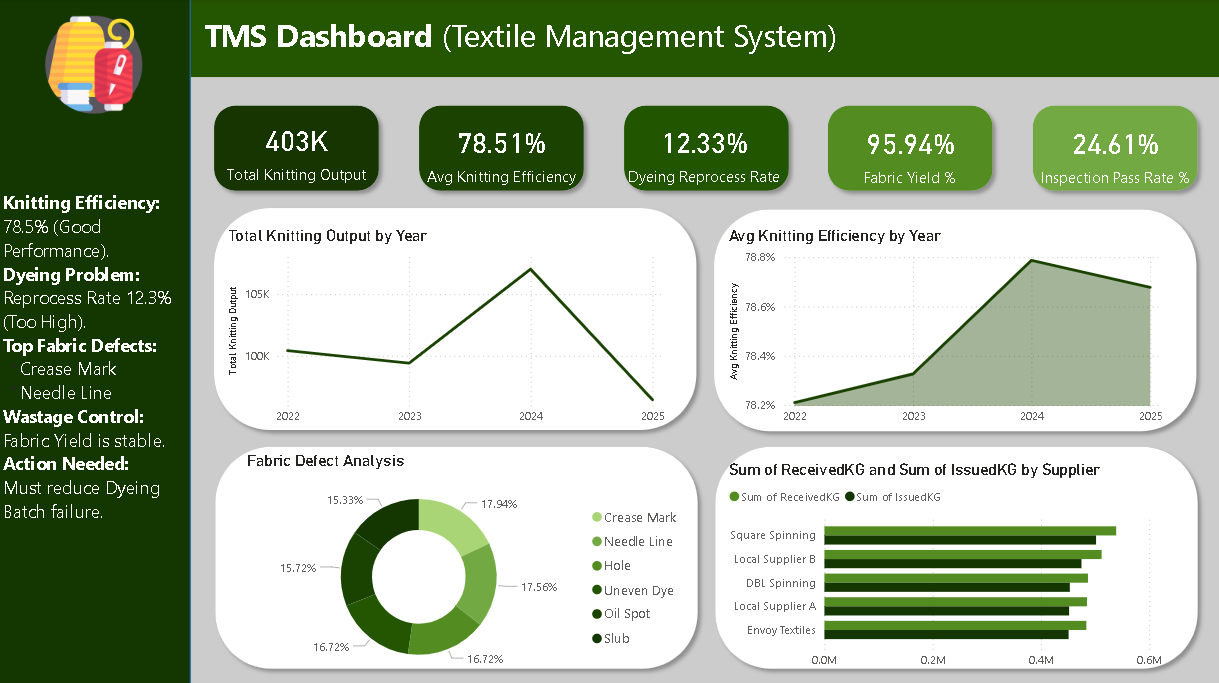

What the dashboard file says about the page in this screenshot:
{"tool":"powerbi","page":{"name":"Textile(TSM)","canvas":[1280,720],"ordinal":0},"visuals":[{"type":"shape","box":[0,0,1280.3,720.2],"z":0},{"type":"shape","box":[201.2,0,1078.8,83.8],"z":1000},{"type":"shape","box":[0,0,201.4,720],"z":2000},{"type":"shape","box":[431.7,105.3,190.4,107],"z":3000},{"type":"shape","box":[645.7,105.3,190.4,107],"z":4000},{"type":"shape","box":[859.7,105.3,190.4,107],"z":5000},{"type":"shape","box":[1073.7,105.3,190.4,107],"z":6000},{"type":"shape","box":[217.7,105.3,190.4,107],"z":7000},{"type":"card","fields":{"Values":["*Measure.Total Knitting Output"]},"box":[201.6,80.9,222.7,158],"z":8000},{"type":"card","fields":{"Values":["*Measure.Avg Knitting Efficiency"]},"box":[415.6,83.4,222.7,158],"z":9000},{"type":"card","fields":{"Values":["*Measure.Dyeing Reprocess Rate"]},"box":[628.3,83.4,222.7,158],"z":10000},{"type":"card","fields":{"Values":["*Measure.Inspection Pass Rate %"]},"box":[1057.5,84.6,222.7,158],"z":11000},{"type":"card","fields":{"Values":["*Measure.Fabric Yield %"]},"box":[843.5,84.6,222.7,158],"z":12000},{"type":"shape","box":[219,461.6,522.6,250.1],"z":13000},{"type":"shape","box":[741.5,461.6,522.6,250.1],"z":14000},{"type":"shape","box":[740.3,212.8,522.6,250.1],"z":15000},{"type":"shape","box":[217.7,211.5,522.6,250.1],"z":16000},{"type":"lineChart","fields":{"Category":["dim_date.Date.Variation.Date Hierarchy.Year","dim_date.Date.Variation.Date Hierarchy.Quarter","dim_date.Date.Variation.Date Hierarchy.Month","dim_date.Date.Variation.Date Hierarchy.Day"],"Y":["*Measure.Total Knitting Output"]},"box":[235.1,238.9,466.6,217.7],"z":17000},{"type":"areaChart","fields":{"Category":["dim_date.Date.Variation.Date Hierarchy.Year","dim_date.Date.Variation.Date Hierarchy.Quarter","dim_date.Date.Variation.Date Hierarchy.Month","dim_date.Date.Variation.Date Hierarchy.Day"],"Y":["*Measure.Avg Knitting Efficiency"]},"box":[760.2,238.9,462.8,217.7],"z":18000},{"type":"donutChart","title":"Fabric Defect Analysis","fields":{"Category":["fact_fabric_inspection.MajorDefect"],"Y":["CountNonNull(fact_fabric_inspection.InspectionID)"]},"box":[255.1,475.3,467.8,245.1],"z":19000},{"type":"clusteredBarChart","fields":{"Category":["fact_yarn_store.Supplier"],"Y":["Sum(fact_yarn_store.ReceivedKG)","Sum(fact_yarn_store.IssuedKG)"]},"box":[760.2,484,462.8,227.7],"z":20000},{"type":"textbox","box":[0,197.5,201.4,499.6],"z":20001},{"type":"textbox","box":[201.4,13.1,737.6,57.5],"z":20002},{"type":"image","box":[11.8,19.6,176.5,102],"z":20003}]}

Visuals, with their boxes in screenshot pixels (x1, y1, x2, y2), scaled from the page's 1280x720 canvas onto the 1219x683 screenshot:
shape: box=[0, 0, 1218, 682]
shape: box=[192, 0, 1218, 79]
shape: box=[0, 0, 192, 682]
shape: box=[411, 100, 592, 201]
shape: box=[615, 100, 796, 201]
shape: box=[819, 100, 1000, 201]
shape: box=[1023, 100, 1204, 201]
shape: box=[207, 100, 389, 201]
card - *Measure.Total Knitting Output: box=[192, 77, 404, 227]
card - *Measure.Avg Knitting Efficiency: box=[396, 79, 608, 229]
card - *Measure.Dyeing Reprocess Rate: box=[598, 79, 810, 229]
card - *Measure.Inspection Pass Rate %: box=[1007, 80, 1218, 230]
card - *Measure.Fabric Yield %: box=[803, 80, 1015, 230]
shape: box=[209, 438, 706, 675]
shape: box=[706, 438, 1204, 675]
shape: box=[705, 202, 1203, 439]
shape: box=[207, 201, 705, 438]
lineChart - dim_date.Date.Variation.Date Hierarchy.Year x dim_date.Date.Variation.Date Hierarchy.Quarter: box=[224, 227, 668, 433]
areaChart - dim_date.Date.Variation.Date Hierarchy.Year x dim_date.Date.Variation.Date Hierarchy.Quarter: box=[724, 227, 1165, 433]
"Fabric Defect Analysis" donutChart: box=[243, 451, 688, 682]
clusteredBarChart - fact_yarn_store.Supplier x Sum(fact_yarn_store.ReceivedKG): box=[724, 459, 1165, 675]
textbox: box=[0, 187, 192, 661]
textbox: box=[192, 12, 894, 67]
image: box=[11, 19, 179, 115]
